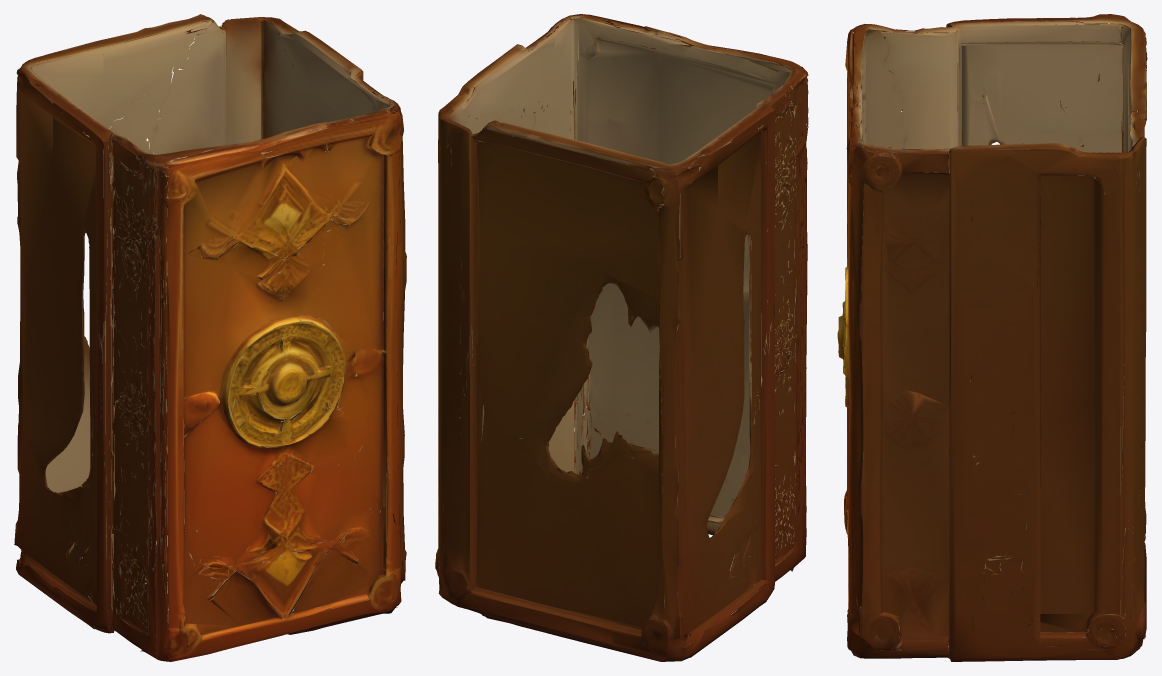
The model's file is hunyuan-giant-book.glb.
3 renders of one model, left to right at view 1: azimuth 30°, elevation 25°; view 2: azimuth 150°, elevation 25°; view 3: azimuth 270°, elevation 25°, orthographic. The views are drawn at different scales.
Parts seen in each view (by area): view 1: node_0; view 2: node_0; view 3: node_0.
Boxes of the visible parts, x1,y1,x2,y2 form: node_0: (14,14,406,661); node_0: (435,14,808,661); node_0: (837,14,1147,661).
Bounding box in the file's own units: 0.5378 × 0.9859 × 0.5309.
1 material, 1 textured.
